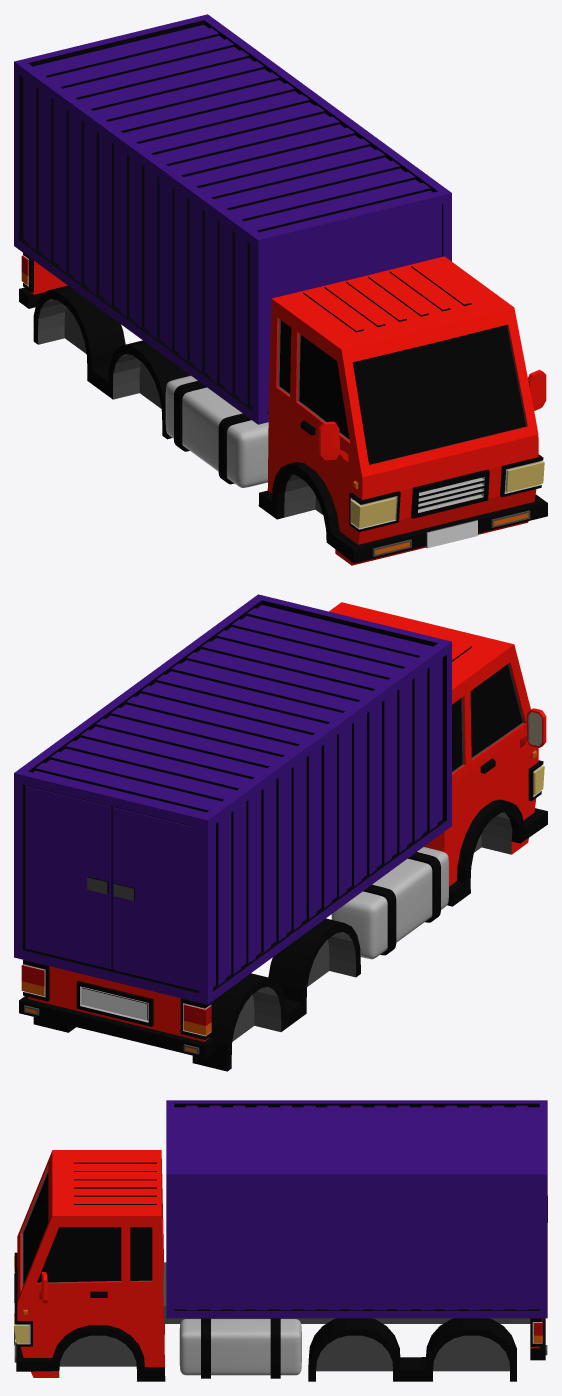
Rendered from ContainerTruck.fbx.
3 views of the same model, one above another, from view 1: azimuth 30°, elevation 25°; view 2: azimuth 150°, elevation 25°; view 3: azimuth 270°, elevation 25° (orthographic). The views are drawn at different scales.
Parts seen in each view (by area): view 1: ContainerTruck.Body.Mesh; view 2: ContainerTruck.Body.Mesh; view 3: ContainerTruck.Body.Mesh.
Boxes of the visible parts, x1,y1,x2,y2 form: ContainerTruck.Body.Mesh: (14, 14, 547, 565); ContainerTruck.Body.Mesh: (14, 594, 547, 1071); ContainerTruck.Body.Mesh: (14, 1100, 547, 1381).
Bounding box in the file's own units: 1.03 × 1.15 × 2.69.
